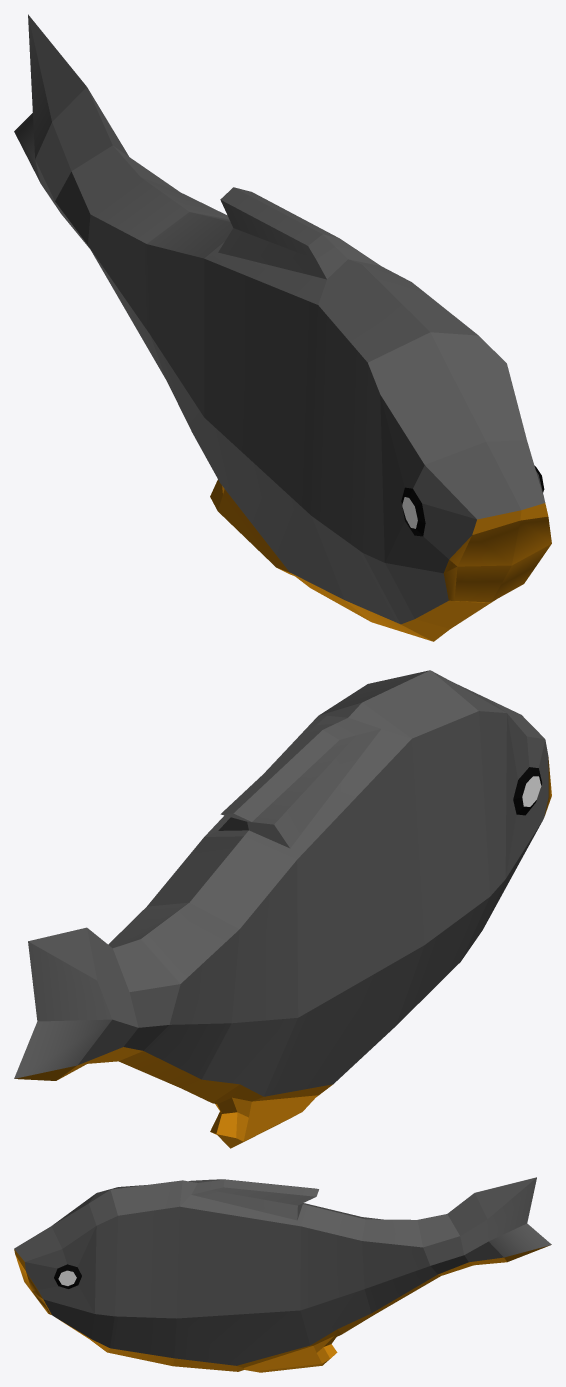
File: Fish-2d.fbx
The picture shows the model from 3 angles, top to bottom: view 1: azimuth 30°, elevation 25°; view 2: azimuth 150°, elevation 25°; view 3: azimuth 270°, elevation 25°; orthographic projection. The views are drawn at different scales.
Visible parts, largest first — view 1: Fish-2; view 2: Fish-2; view 3: Fish-2.
Part boxes in pixels (x1,y1,x2,y2): Fish-2: [14, 14, 551, 641]; Fish-2: [14, 670, 551, 1148]; Fish-2: [14, 1177, 551, 1372].
Size of the model in its own units: 0.0938 by 0.257 by 0.6408.
